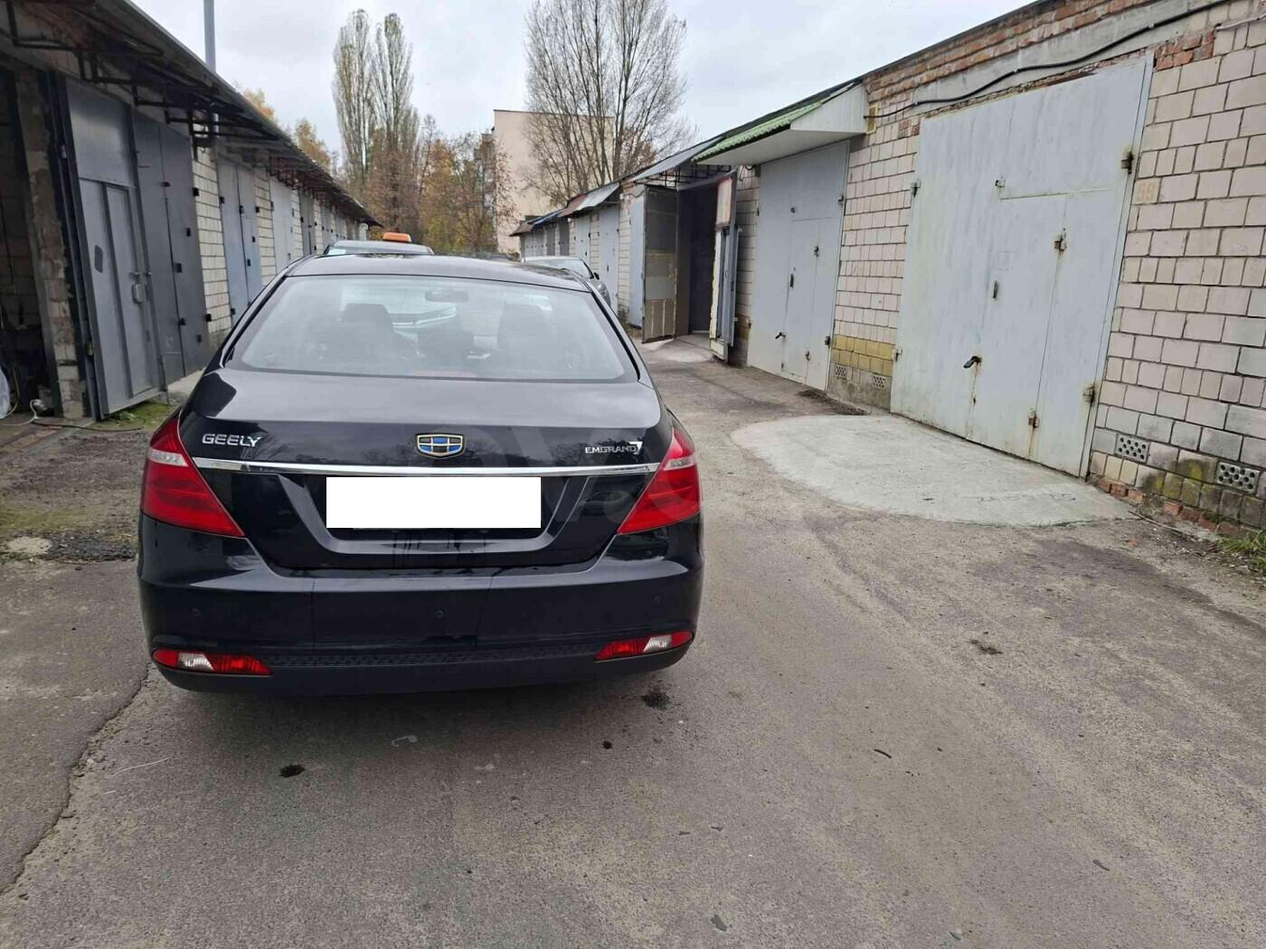Emgrand_2019-2021: (137, 256, 704, 694)
